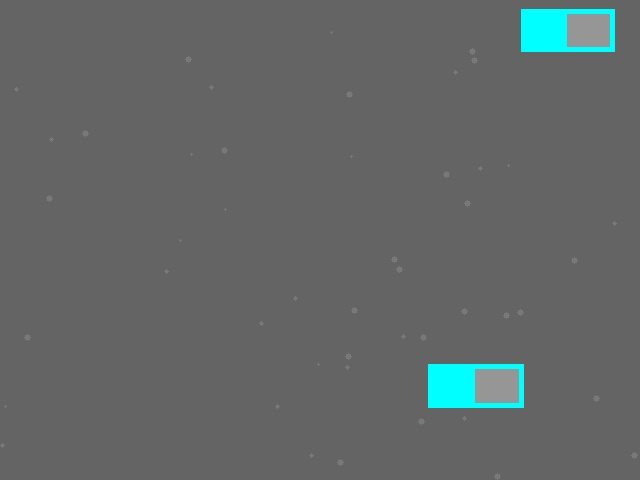truck: (428, 364, 523, 407), (521, 9, 614, 51)
